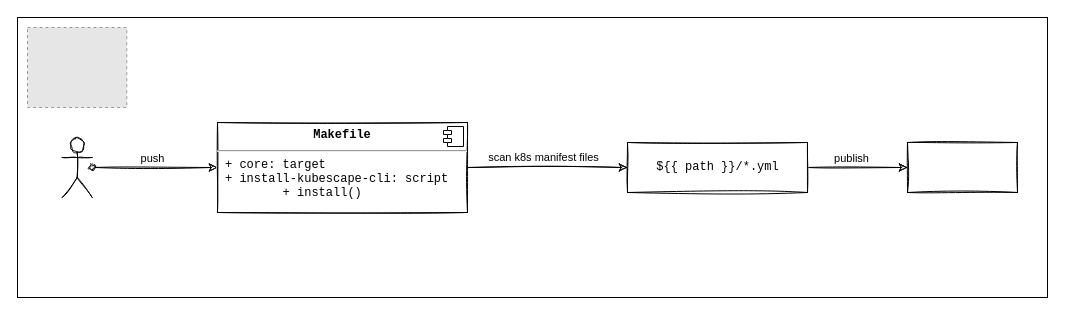
Image size: 1065x315. Some labels were removed from this diagram. Grey dashed boxes stand in for pictures. Each missing label, with the centre of its shape:
Actor: pixel 76 167
report: pixel 962 167
